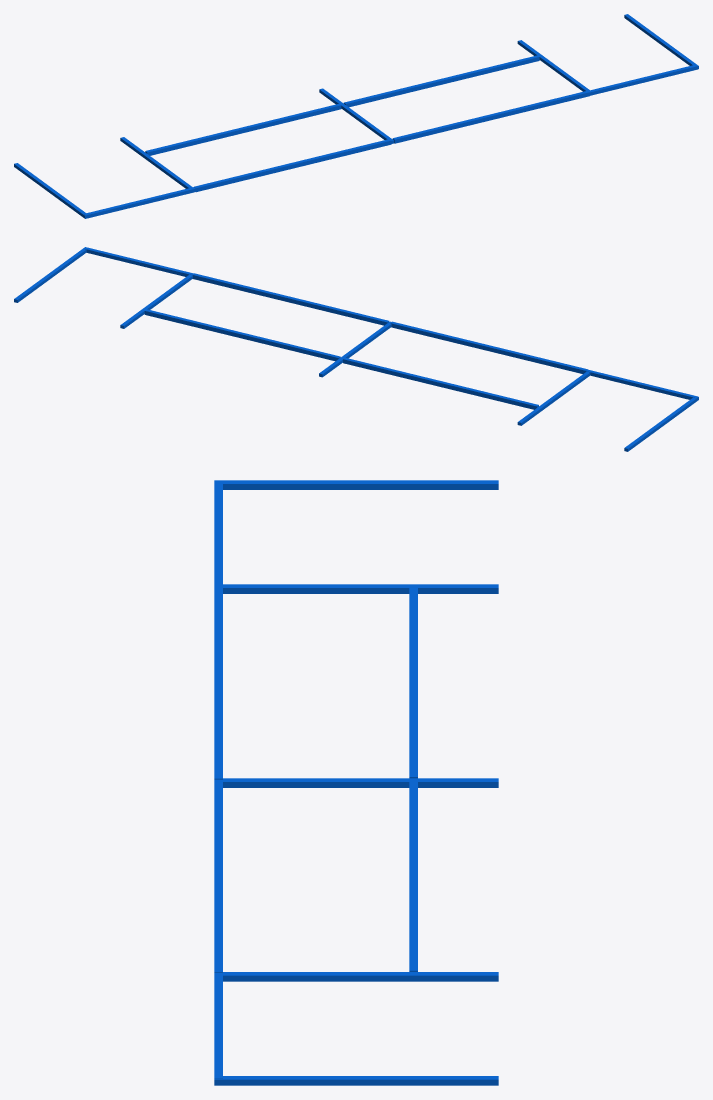
The model's file is Podium_Metal_Grid_02_Lod0.fbx.
3 views of the same model, one above another, from view 1: azimuth 30°, elevation 25°; view 2: azimuth 150°, elevation 25°; view 3: azimuth 270°, elevation 25° (orthographic). The views are drawn at different scales.
Parts seen in each view (by area): view 1: Podium_Metal_Grid_02_Lod0; view 2: Podium_Metal_Grid_02_Lod0; view 3: Podium_Metal_Grid_02_Lod0.
Part boxes in pixels (x1,y1,x2,y2): Podium_Metal_Grid_02_Lod0: (14, 14, 698, 218); Podium_Metal_Grid_02_Lod0: (14, 247, 698, 451); Podium_Metal_Grid_02_Lod0: (214, 480, 498, 1085).
Size of the model in its own units: 1640 by 10.3 by 329.
